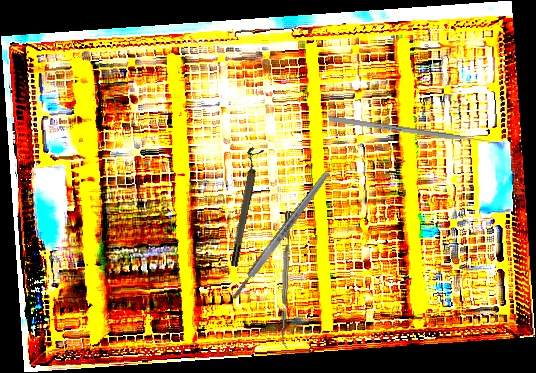Chopper: (278, 210, 298, 350)
Fixation Ring: (223, 146, 265, 268)
Pusher: (328, 116, 499, 146)
Scalpel Handle: (229, 169, 332, 302)
